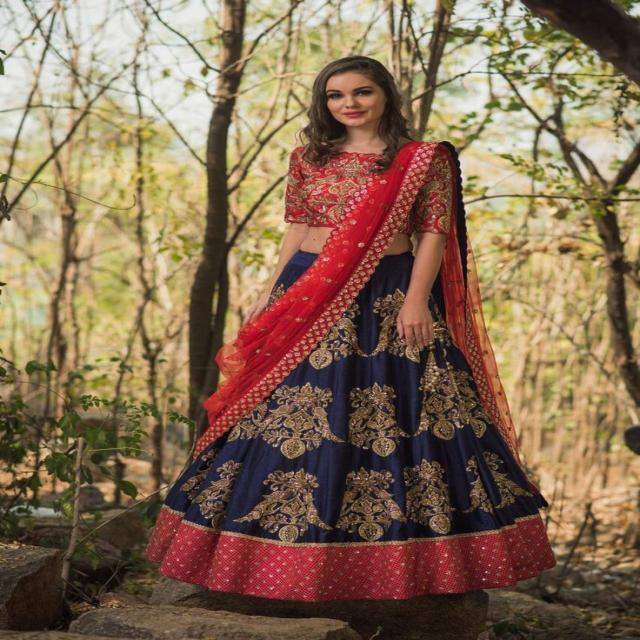female-dress: (169, 141, 557, 601)
